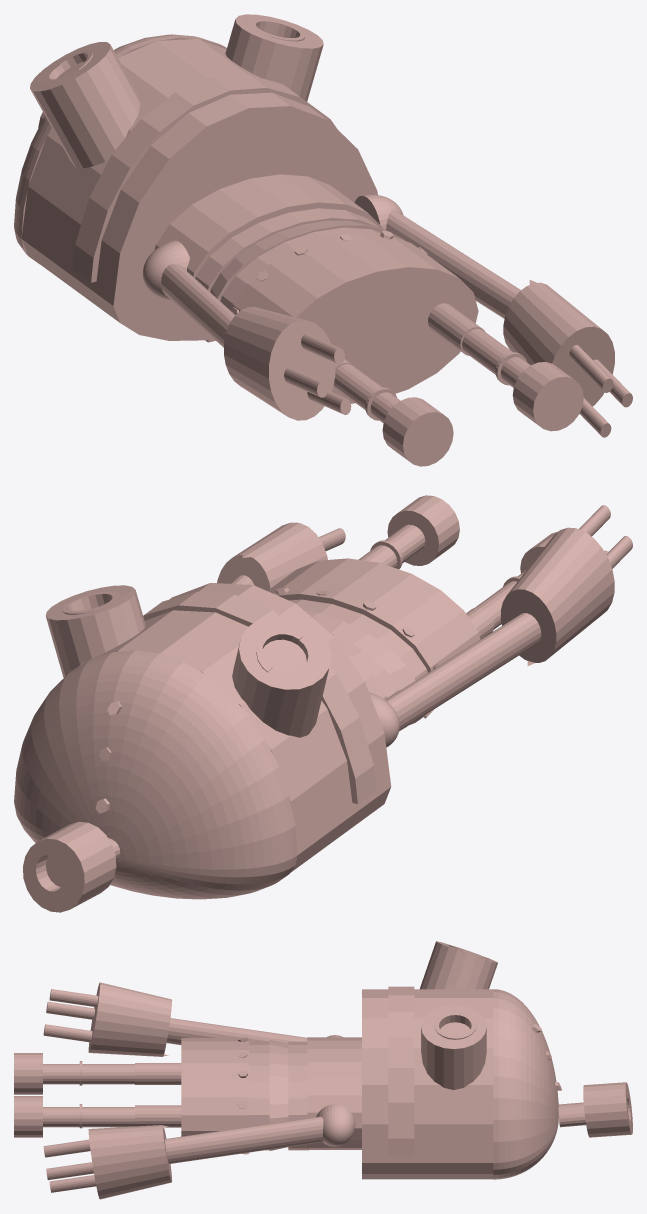
Rendered from Tink1.glb.
3 renders of one model, top to bottom at view 1: azimuth 30°, elevation 25°; view 2: azimuth 150°, elevation 25°; view 3: azimuth 270°, elevation 25°, orthographic. The views are drawn at different scales.
Parts seen in each view (by area): view 1: Mesh_Mesh_head_geo.001_lambert2SG.001; view 2: Mesh_Mesh_head_geo.001_lambert2SG.001; view 3: Mesh_Mesh_head_geo.001_lambert2SG.001.
Boxes of the visible parts, <box> form: Mesh_Mesh_head_geo.001_lambert2SG.001: <box>14,14,632,466</box>; Mesh_Mesh_head_geo.001_lambert2SG.001: <box>14,495,632,912</box>; Mesh_Mesh_head_geo.001_lambert2SG.001: <box>14,941,632,1199</box>.
Bounding box in the file's own units: 87 × 66 × 189.
